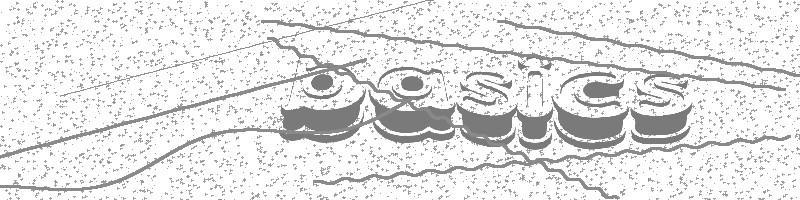a: (369, 66, 456, 144)
b: (280, 57, 367, 144)
c: (554, 71, 627, 150)
i: (517, 56, 553, 151)
s: (456, 70, 517, 148), (627, 74, 692, 146)
